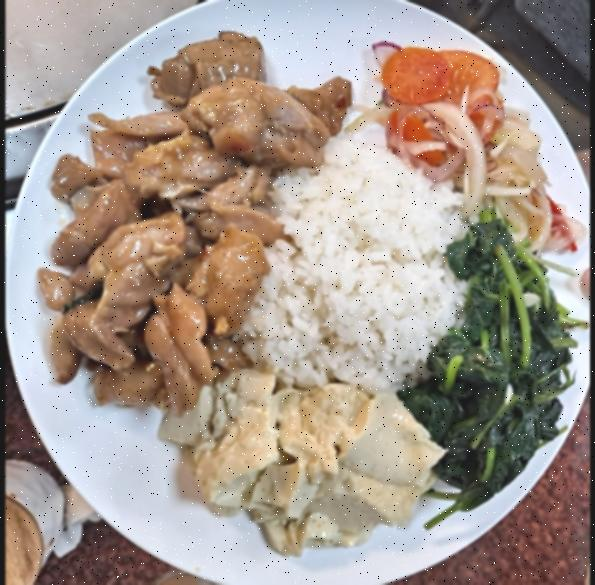plate: (8, 0, 584, 582)
side dish: (172, 371, 442, 561), (412, 236, 584, 497), (382, 39, 572, 256)
three cup chicken: (37, 44, 327, 400)
white rice: (246, 138, 470, 381)
